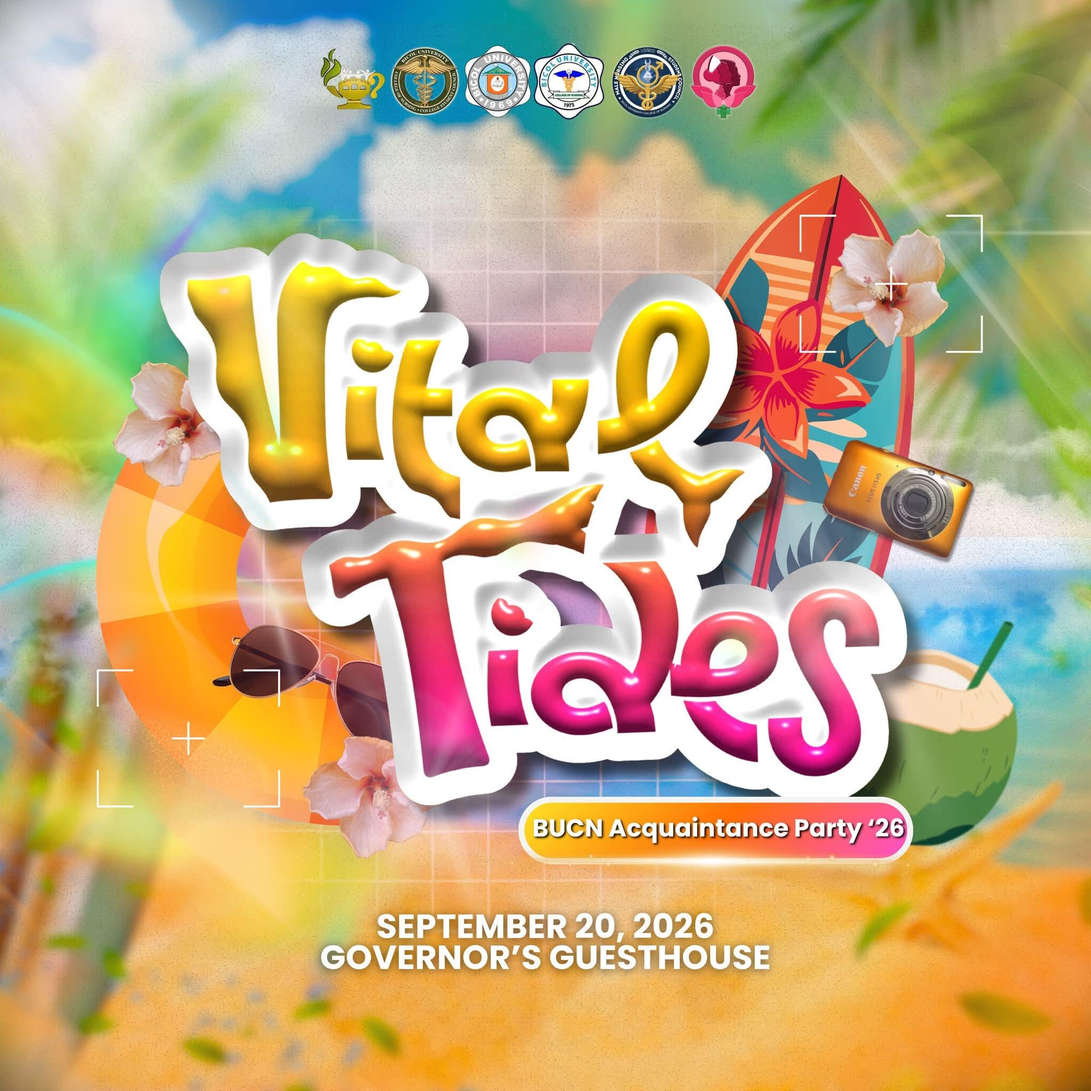logo: (532, 42, 607, 124), (610, 43, 688, 121), (689, 40, 763, 121), (462, 42, 535, 124), (388, 44, 462, 117), (316, 46, 388, 116)
text: (153, 229, 908, 808), (317, 909, 779, 978), (531, 813, 909, 846)
underlay: (518, 795, 915, 864)
